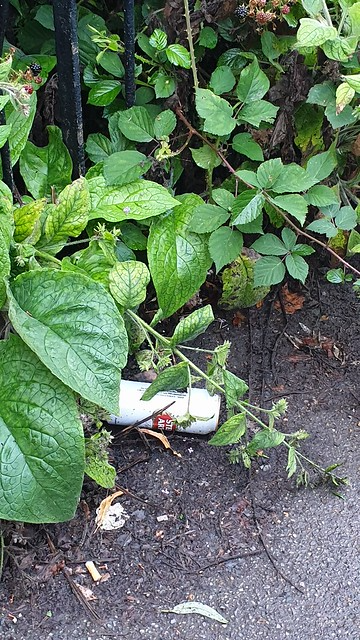can: (99, 367, 226, 437)
